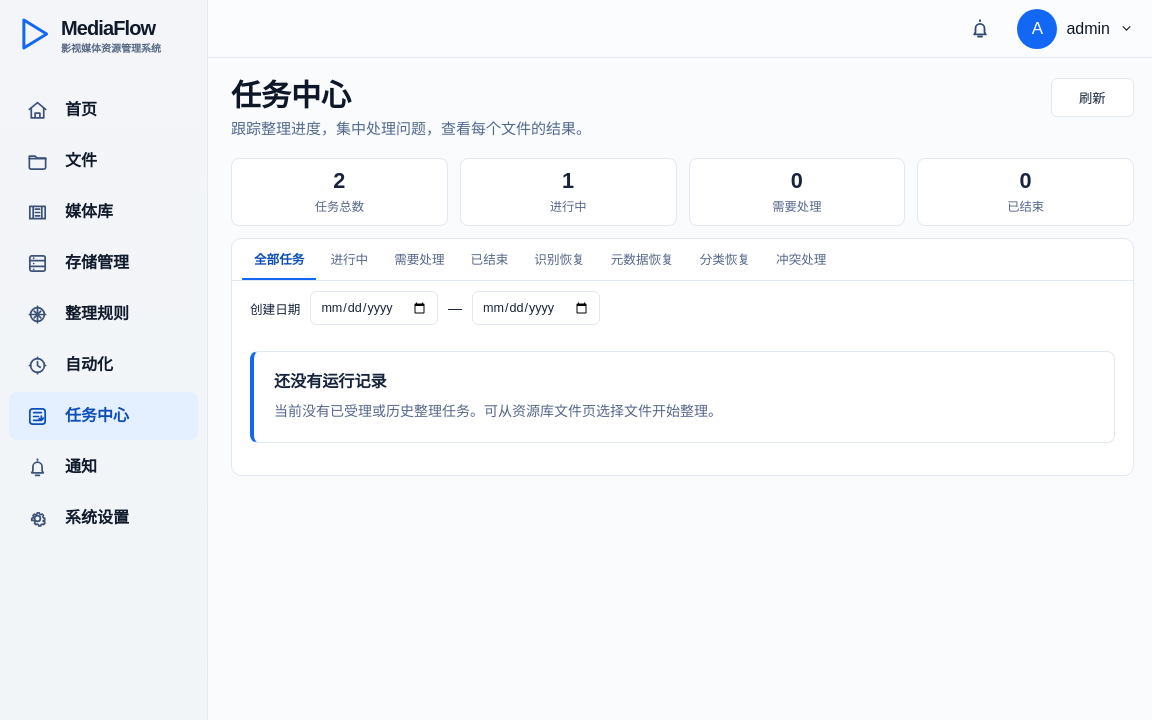
Test: Operations run inventory landing › offers only a local creation-time range on All and clears back to the whole population
Expected: the heading "任务中心" is shown, [231,79,351,112]
Expected: the heading "还没有运行记录" is shown, [274,372,387,390]
Type "2026-08-01" into the 1st date field named "开始日期" at (374, 308), box [310,291,438,325]
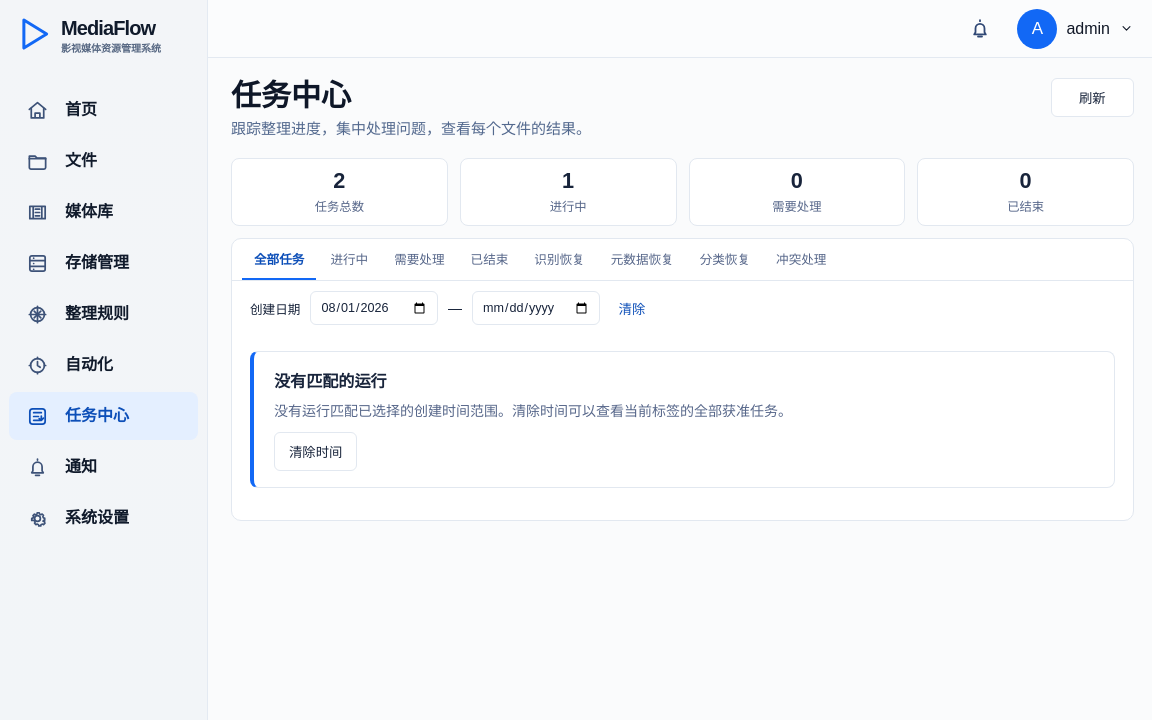
Type "2026-08-02" into the 2nd date field named "结束日期" at (536, 308), box [472,291,600,325]
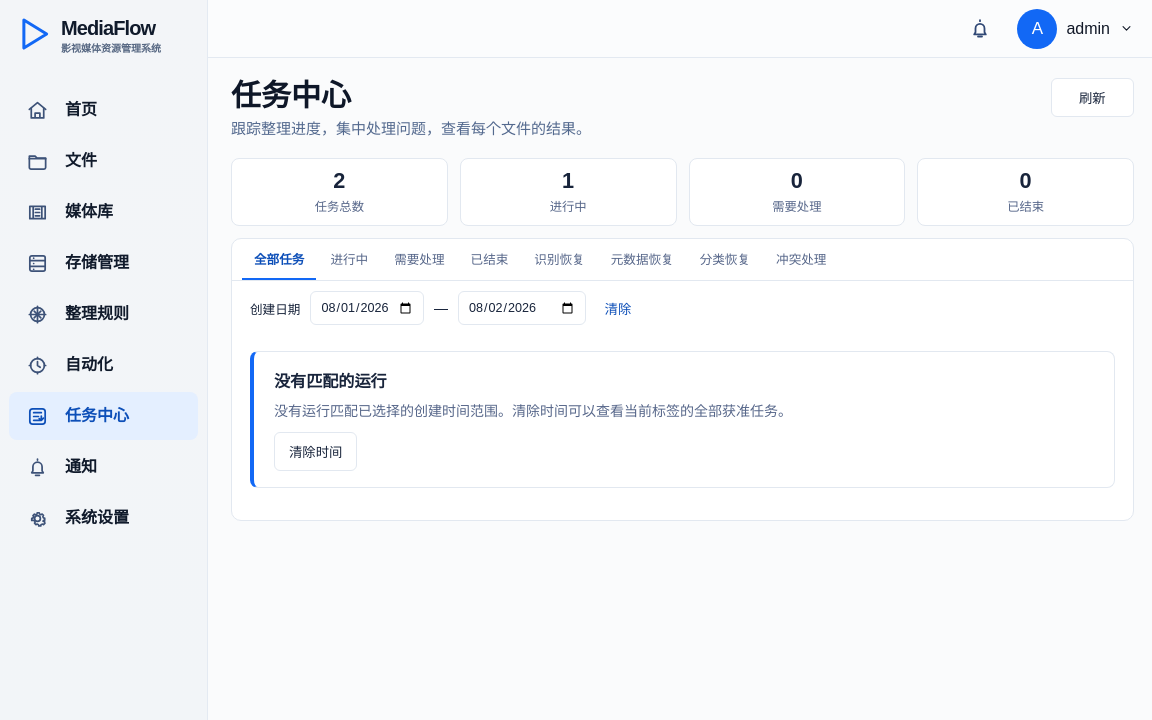
Now the 1st date field named "开始日期" has attribute max="2026-08-02", box [310,291,424,325]
Now the 2nd date field named "结束日期" has attribute min="2026-08-01", box [458,291,586,325]
Click the button "清除" at (618, 308), box [596,291,640,325]
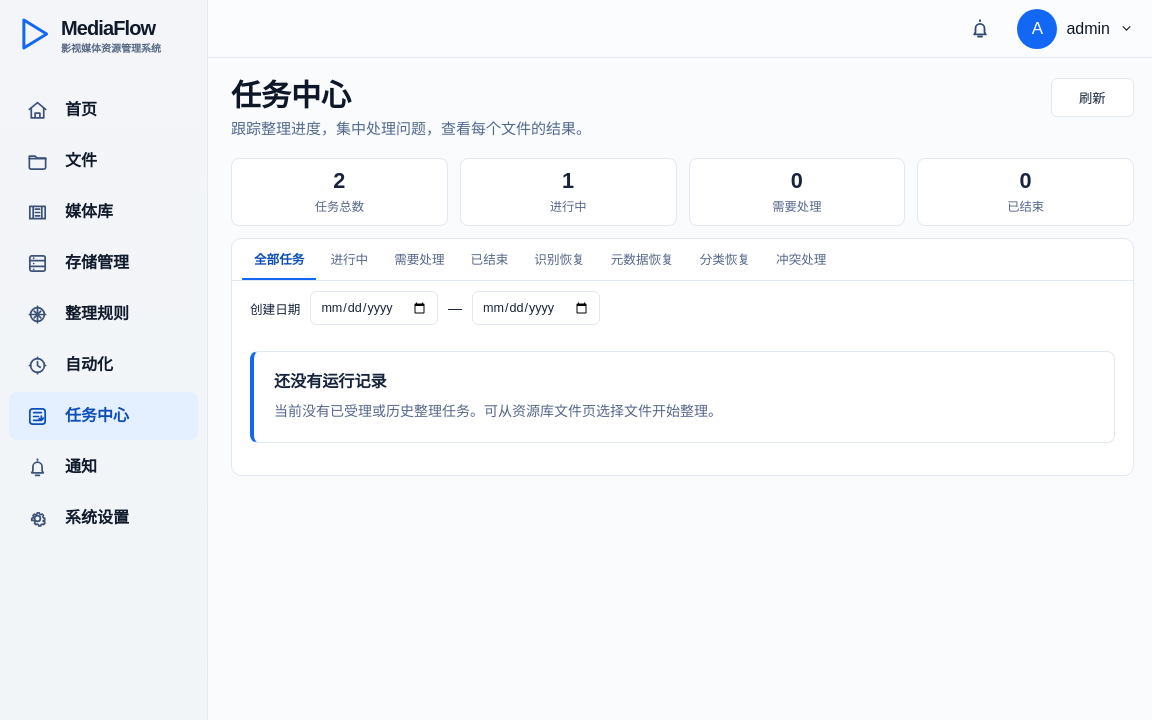
Now the text "清除时间" is gone
